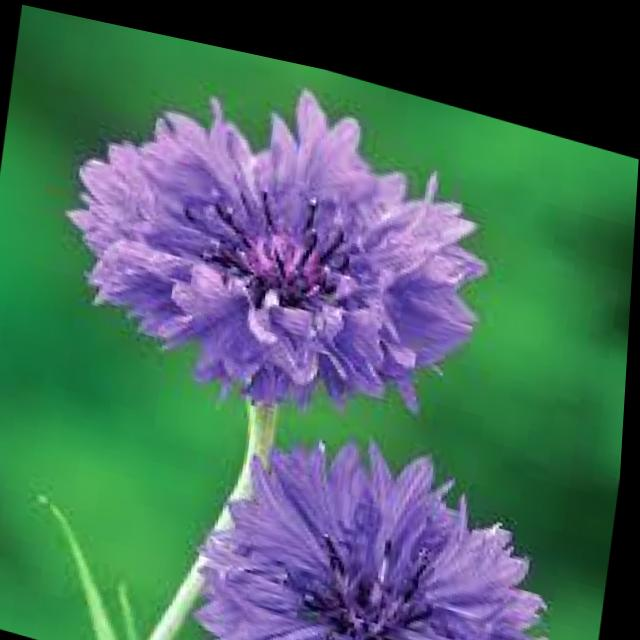Flower: (38, 31, 544, 434), (206, 398, 584, 640)
